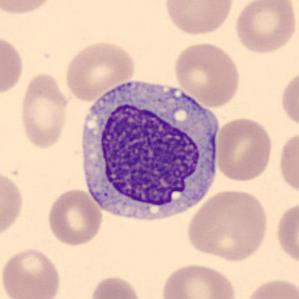Monocyte: (72, 72, 225, 227)
RBC: (185, 187, 271, 263), (171, 40, 242, 108), (63, 39, 137, 101), (17, 70, 71, 151), (213, 114, 274, 183), (232, 0, 298, 55), (45, 187, 104, 247), (0, 245, 63, 299), (158, 261, 239, 299), (162, 0, 236, 37), (0, 168, 27, 241), (274, 198, 298, 270), (0, 32, 26, 98), (277, 127, 298, 198), (88, 273, 144, 299), (242, 275, 298, 299), (278, 68, 298, 131), (0, 0, 57, 17)
